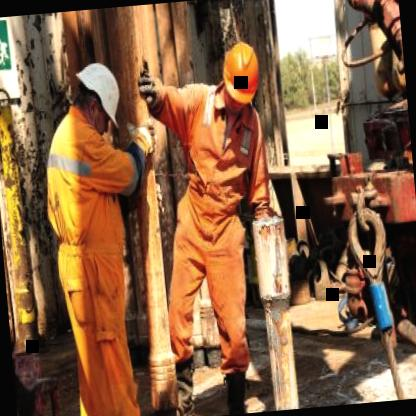helmet: (64, 58, 124, 138), (216, 36, 266, 116)
